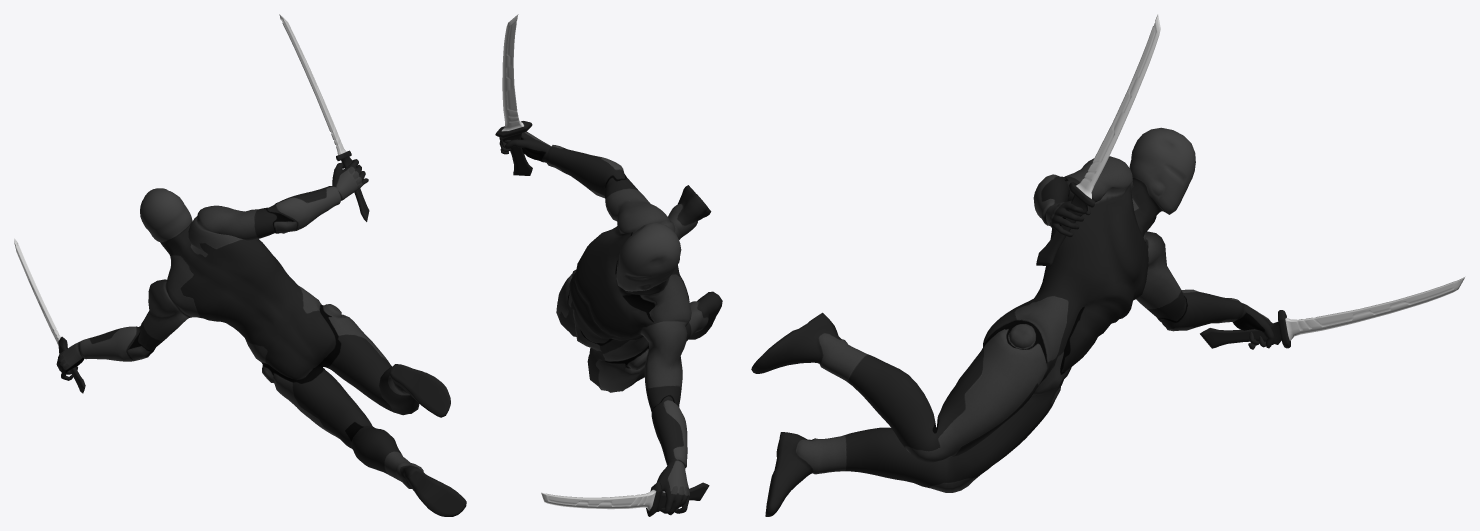
The picture shows the model from 3 angles, left to right: view 1: azimuth 30°, elevation 25°; view 2: azimuth 150°, elevation 25°; view 3: azimuth 270°, elevation 25°; orthographic projection. The views are drawn at different scales.
Parts seen in each view (by area): view 1: Cyborg_Ninja_Killer, Sword_l001, Sword_l; view 2: Cyborg_Ninja_Killer, Sword_l001, Sword_l; view 3: Cyborg_Ninja_Killer, Sword_l, Sword_l001.
Boxes of the visible parts, bbox=[...] form: Cyborg_Ninja_Killer: bbox=[56, 159, 466, 516]; Sword_l001: bbox=[279, 14, 369, 221]; Sword_l: bbox=[14, 238, 85, 393]; Cyborg_Ninja_Killer: bbox=[499, 131, 722, 515]; Sword_l001: bbox=[495, 14, 532, 175]; Sword_l: bbox=[541, 482, 709, 516]; Cyborg_Ninja_Killer: bbox=[751, 127, 1274, 516]; Sword_l: bbox=[1200, 276, 1465, 348]; Sword_l001: bbox=[1036, 14, 1160, 266].
Size of the model in its own units: 105 by 170 by 224.
2 materials, 2 textured.
